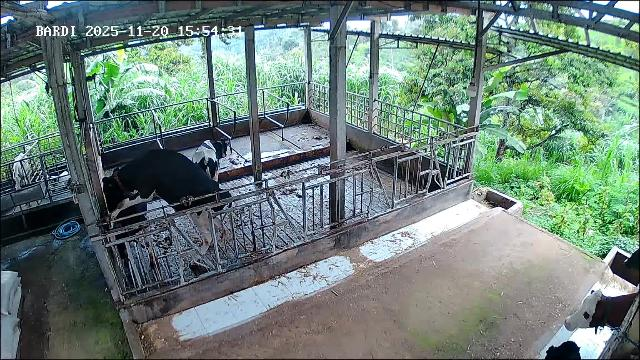mounting: (100, 147, 233, 250)
